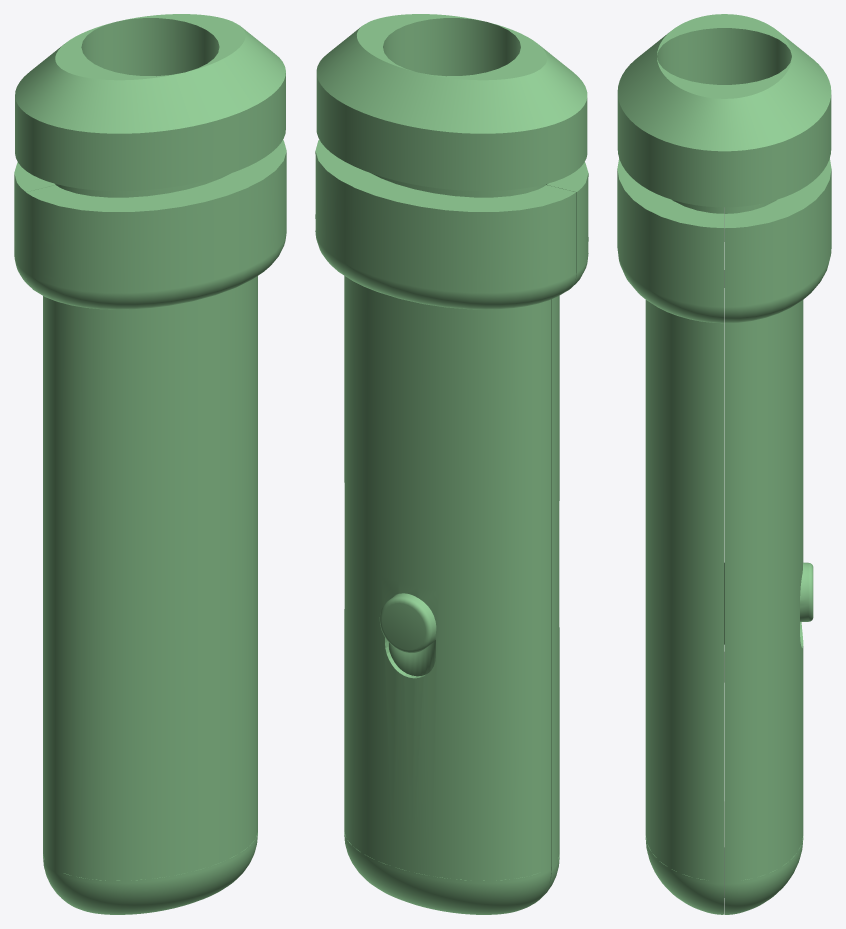
File: pandacraft2.glb
3 views of the same model, side by side, from view 1: azimuth 30°, elevation 25°; view 2: azimuth 150°, elevation 25°; view 3: azimuth 270°, elevation 25° (orthographic). The views are drawn at different scales.
Visible parts, largest first — view 1: FACE_ARRIERE, CHAPEAU_LOUPE, FACE_AVANT; view 2: FACE_AVANT, CHAPEAU_LOUPE, FACE_ARRIERE, BOUTON; view 3: FACE_ARRIERE, FACE_AVANT, CHAPEAU_LOUPE, BOUTON.
Part boxes in pixels (<box>): FACE_ARRIERE: <box>26,140,286,914</box>; CHAPEAU_LOUPE: <box>15,14,285,190</box>; FACE_AVANT: <box>14,162,59,896</box>; FACE_AVANT: <box>315,139,576,914</box>; CHAPEAU_LOUPE: <box>316,14,587,190</box>; FACE_ARRIERE: <box>388,162,588,902</box>; BOUTON: <box>379,593,436,676</box>; FACE_ARRIERE: <box>617,158,724,914</box>; FACE_AVANT: <box>724,158,831,914</box>; CHAPEAU_LOUPE: <box>617,14,831,207</box>; BOUTON: <box>800,562,813,621</box>.
Bounding box in the file's own units: 5.01 × 16.3 × 3.81.
